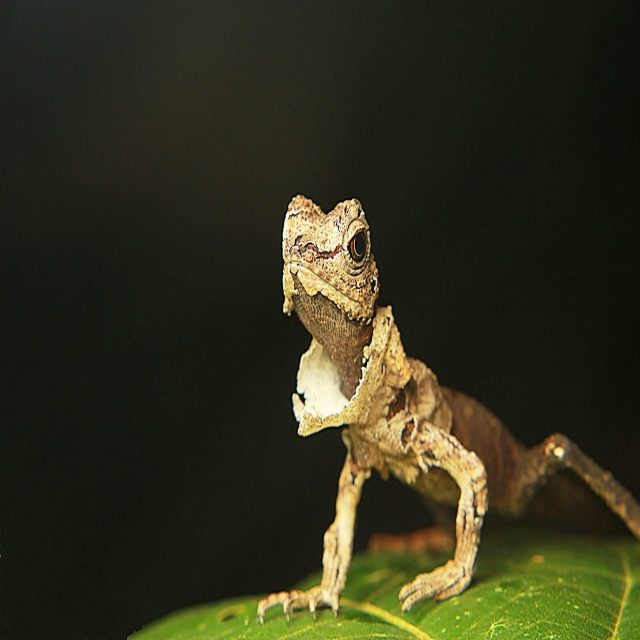Lizard: (257, 194, 640, 625)
